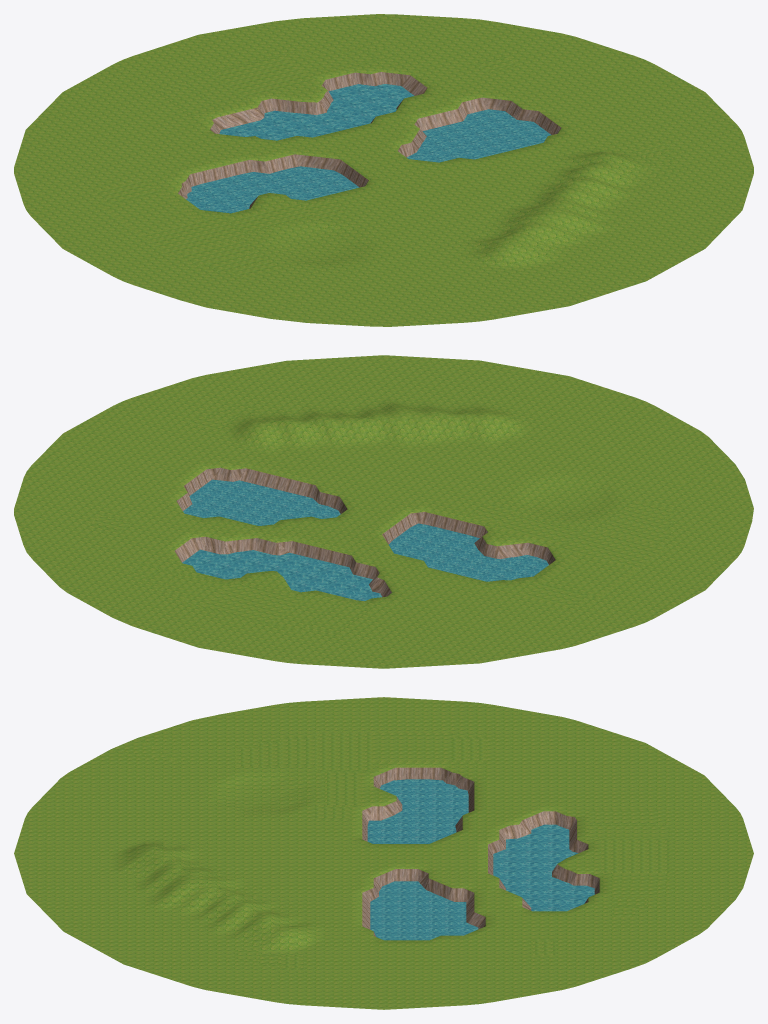
File: map9.fbx
3 renders of one model, top to bottom at view 1: azimuth 30°, elevation 25°; view 2: azimuth 150°, elevation 25°; view 3: azimuth 270°, elevation 25°, orthographic.
Parts seen in each view (by area): view 1: polySurface8, polySurface2, polySurface3, polySurface1, polySurface5, polySurface7, polySurface6; view 2: polySurface8, polySurface2, polySurface3, polySurface1, polySurface5, polySurface7, polySurface6; view 3: polySurface8, polySurface2, polySurface3, polySurface1, polySurface5, polySurface7, polySurface6.
Boxes of the visible parts, bbox=[...] form: polySurface8: bbox=[14, 14, 753, 326]; polySurface2: bbox=[219, 84, 414, 140]; polySurface3: bbox=[186, 166, 359, 213]; polySurface1: bbox=[406, 109, 551, 162]; polySurface5: bbox=[210, 72, 427, 133]; polySurface7: bbox=[178, 154, 368, 208]; polySurface6: bbox=[398, 97, 560, 157]; polySurface8: bbox=[14, 355, 753, 668]; polySurface2: bbox=[182, 549, 381, 601]; polySurface3: bbox=[389, 523, 548, 581]; polySurface1: bbox=[183, 479, 340, 525]; polySurface5: bbox=[174, 536, 391, 597]; polySurface7: bbox=[382, 512, 555, 564]; polySurface6: bbox=[176, 467, 347, 513]; polySurface8: bbox=[14, 697, 753, 1009]; polySurface2: bbox=[493, 824, 594, 911]; polySurface3: bbox=[367, 779, 468, 843]; polySurface1: bbox=[370, 881, 478, 940]; polySurface5: bbox=[488, 811, 599, 910]; polySurface7: bbox=[362, 767, 474, 841]; polySurface6: bbox=[362, 869, 485, 936].
Bounding box in the file's own units: 6.48 × 0.2 × 6.48.
Materials: 3 (3 with a texture image).
